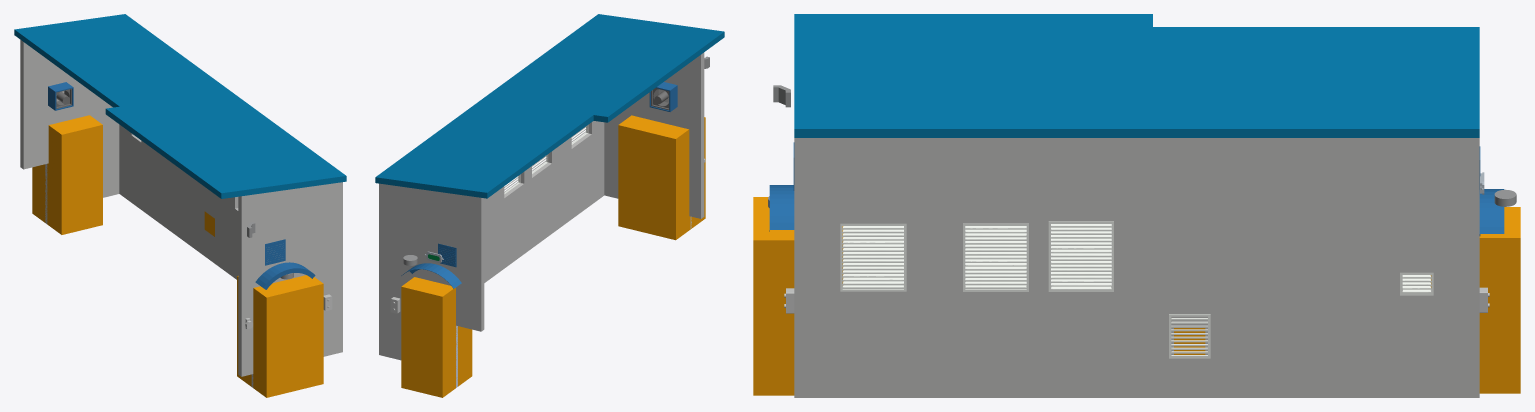
Rendered from Phase27.fbx.
3 views of the same model, side by side, from view 1: azimuth 30°, elevation 25°; view 2: azimuth 150°, elevation 25°; view 3: azimuth 270°, elevation 25° (orthographic). The views are drawn at different scales.
Visible parts, largest first — view 1: Базовая стена:CPS_Наружная_Сэндвич-панель120:458419 (×2), Базовая стена:CPS_Наружная_Сэндвич-панель120:456194 (×2), Базовая стена:CPS_Наружная_Сэндвич-панель120:457089, Базовая стена:CPS_Наружная_Сэндвич-панель120:458461, Базовая стена:CPS_Наружная_Сэндвич-панель120:458471, Базовая крыша:Сэндвич-панель:508941, Базовая крыша:Сэндвич-панель:508923, Базовая крыша:Сэндвич-панель:508830, Базовая крыша:Сэндвич-панель:508903, Базовая крыша:Сэндвич-панель:508599, Базовая крыша:Сэндвич-панель:508745, Базовая крыша:Сэндвич-панель:508766 (+13 smaller); view 2: Базовая стена:CPS_Наружная_Сэндвич-панель120:458419 (×2), Базовая стена:CPS_Наружная_Сэндвич-панель120:456194 (×2), Базовая стена:CPS_Наружная_Сэндвич-панель120:457270, Базовая стена:CPS_Наружная_Сэндвич-панель120:456202, Базовая крыша:Сэндвич-панель:508599, Базовая стена:CPS_Наружная_Сэндвич-панель120:458005, Базовая крыша:Сэндвич-панель:508830, Базовая крыша:Сэндвич-панель:508941, Базовая крыша:Сэндвич-панель:508923, Базовая крыша:Сэндвич-панель:508903, Базовая крыша:Сэндвич-панель:508787, Базовая крыша:Сэндвич-панель:508745 (+13 smaller); view 3: Базовая стена:CPS_Наружная_Сэндвич-панель120:457270, Базовая стена:CPS_Наружная_Сэндвич-панель120:457483, Базовая стена:CPS_Наружная_Сэндвич-панель120:457252, Базовая стена:CPS_Наружная_Сэндвич-панель120:457260, Базовая стена:CPS_Наружная_Сэндвич-панель120:457089, Базовая стена:CPS_Наружная_Сэндвич-панель120:457475, Базовая крыша:Сэндвич-панель:508903, Базовая крыша:Сэндвич-панель:508923, Базовая крыша:Сэндвич-панель:508830, Базовая крыша:Сэндвич-панель:508941, Базовая крыша:Сэндвич-панель:508766, RGB_RAL 9016 (×2) (+11 smaller).
Part boxes in pixels (x1,y1,x2,y2): Базовая стена:CPS_Наружная_Сэндвич-панель120:458419 (×2): [237, 258, 337, 397]; Базовая стена:CPS_Наружная_Сэндвич-панель120:456194 (×2): [20, 102, 119, 234]; Базовая стена:CPS_Наружная_Сэндвич-панель120:457089: [119, 137, 223, 269]; Базовая стена:CPS_Наружная_Сэндвич-панель120:458461: [238, 210, 337, 281]; Базовая стена:CPS_Наружная_Сэндвич-панель120:458471: [238, 183, 337, 233]; Базовая крыша:Сэндвич-панель:508941: [184, 149, 335, 191]; Базовая крыша:Сэндвич-панель:508923: [158, 129, 309, 171]; Базовая крыша:Сэндвич-панель:508830: [105, 91, 256, 133]; Базовая крыша:Сэндвич-панель:508903: [132, 110, 282, 152]; Базовая крыша:Сэндвич-панель:508599: [14, 14, 151, 53]; Базовая крыша:Сэндвич-панель:508745: [40, 33, 177, 73]; Базовая крыша:Сэндвич-панель:508766: [67, 52, 203, 92]; Базовая стена:CPS_Наружная_Сэндвич-панель120:458419 (×2): [604, 105, 705, 240]; Базовая стена:CPS_Наружная_Сэндвич-панель120:456194 (×2): [384, 260, 484, 397]; Базовая стена:CPS_Наружная_Сэндвич-панель120:457270: [492, 138, 604, 276]; Базовая стена:CPS_Наружная_Сэндвич-панель120:456202: [384, 212, 484, 283]; Базовая крыша:Сэндвич-панель:508599: [375, 158, 513, 198]; Базовая стена:CPS_Наружная_Сэндвич-панель120:458005: [384, 184, 484, 235]; Базовая крыша:Сэндвич-панель:508830: [482, 80, 634, 122]; Базовая крыша:Сэндвич-панель:508941: [562, 21, 714, 63]; Базовая крыша:Сэндвич-панель:508923: [535, 41, 687, 83]; Базовая крыша:Сэндвич-панель:508903: [509, 60, 660, 102]; Базовая крыша:Сэндвич-панель:508787: [455, 99, 593, 139]; Базовая крыша:Сэндвич-панель:508745: [402, 138, 540, 178]; Базовая стена:CPS_Наружная_Сэндвич-панель120:457270: [794, 310, 1147, 397]; Базовая стена:CPS_Наружная_Сэндвич-панель120:457483: [794, 138, 1147, 221]; Базовая стена:CPS_Наружная_Сэндвич-панель120:457252: [1148, 221, 1479, 309]; Базовая стена:CPS_Наружная_Сэндвич-панель120:457260: [1148, 138, 1479, 221]; Базовая стена:CPS_Наружная_Сэндвич-панель120:457089: [1148, 310, 1479, 397]; Базовая стена:CPS_Наружная_Сэндвич-панель120:457475: [794, 221, 1147, 309]; Базовая крыша:Сэндвич-панель:508903: [989, 14, 1071, 137]; Базовая крыша:Сэндвич-панель:508923: [907, 14, 989, 137]; Базовая крыша:Сэндвич-панель:508830: [1071, 14, 1152, 137]; Базовая крыша:Сэндвич-панель:508941: [826, 14, 907, 137]; Базовая крыша:Сэндвич-панель:508766: [1234, 27, 1316, 137]; RGB_RAL 9016 (×2): [840, 223, 1028, 291].
Bounding box in the file's own units: 2740 × 9390 × 4245.
